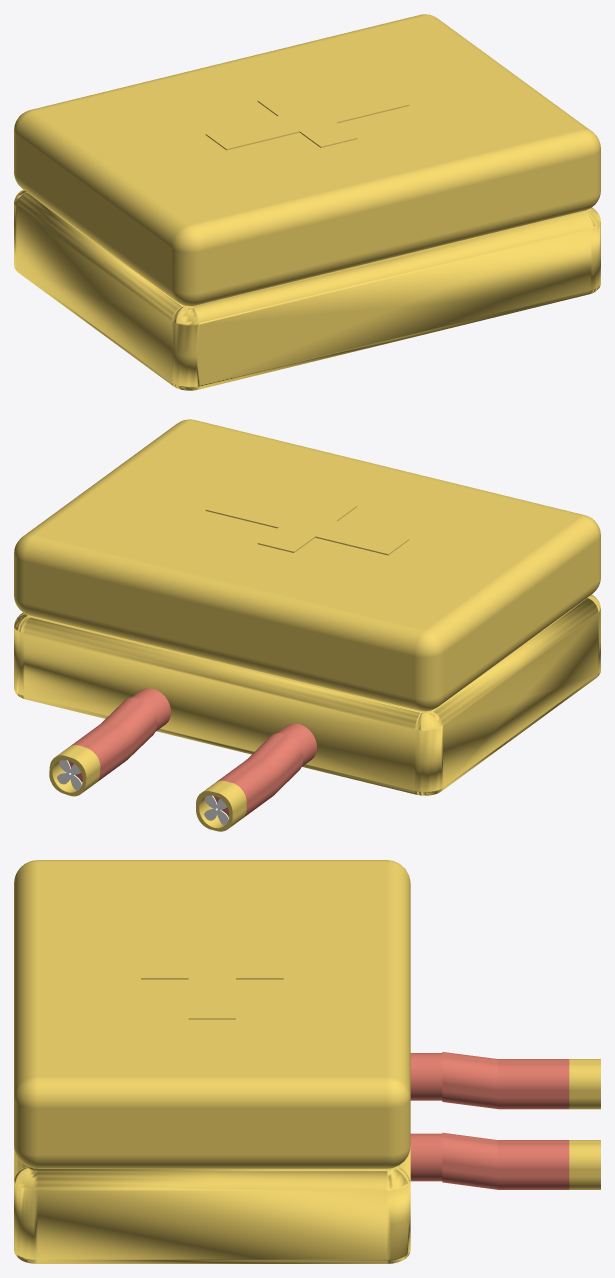
3 renders of one model, top to bottom at view 1: azimuth 30°, elevation 25°; view 2: azimuth 150°, elevation 25°; view 3: azimuth 270°, elevation 25°, orthographic. The views are drawn at different scales.
Visible parts, largest first — view 1: Body23, Body22, Body29; view 2: Body23, Body22, Body29, 공기관1, 공기관1 (1), 팬커버, 팬커버 (1), 공기관2, 공기관2 (1); view 3: Body23, Body22, Body29, 공기관1 (1), 공기관1, 팬커버 (1), 공기관2, 팬커버, 공기관2 (1).
Boxes of the visible parts, box(x1,y1,x2,y2) form: Body23: box(14, 14, 600, 306); Body22: box(14, 189, 600, 390); Body29: box(205, 89, 409, 150); Body23: box(14, 419, 600, 711); Body22: box(14, 594, 600, 795); Body29: box(205, 494, 409, 555); 공기관1: box(68, 697, 156, 781); 공기관1 (1): box(213, 733, 302, 817); 팬커버: box(49, 745, 100, 796); 팬커버 (1): box(196, 780, 246, 831); 공기관2: box(131, 688, 170, 731); 공기관2 (1): box(277, 723, 316, 766); Body23: box(14, 860, 410, 1168); Body22: box(14, 1147, 410, 1263); Body29: box(141, 917, 283, 1019); 공기관1 (1): box(442, 1052, 569, 1109); 공기관1: box(442, 1132, 569, 1189); 팬커버 (1): box(569, 1059, 600, 1109); 공기관2: box(410, 1133, 442, 1181); 팬커버: box(569, 1140, 600, 1189); 공기관2 (1): box(410, 1053, 442, 1100).
Bounding box in the file's own units: 35 × 12.64 × 37.
